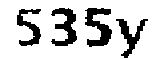3: (47, 3, 79, 48)
5: (83, 5, 117, 54), (11, 6, 45, 49)
y: (114, 16, 149, 60)
